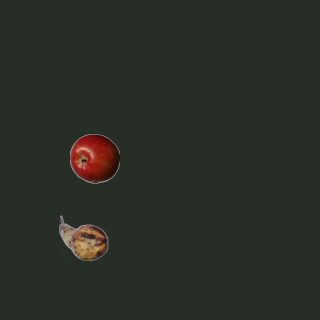Apple Braeburn: (69, 133, 119, 183)
Pear Abate: (58, 213, 108, 263)
